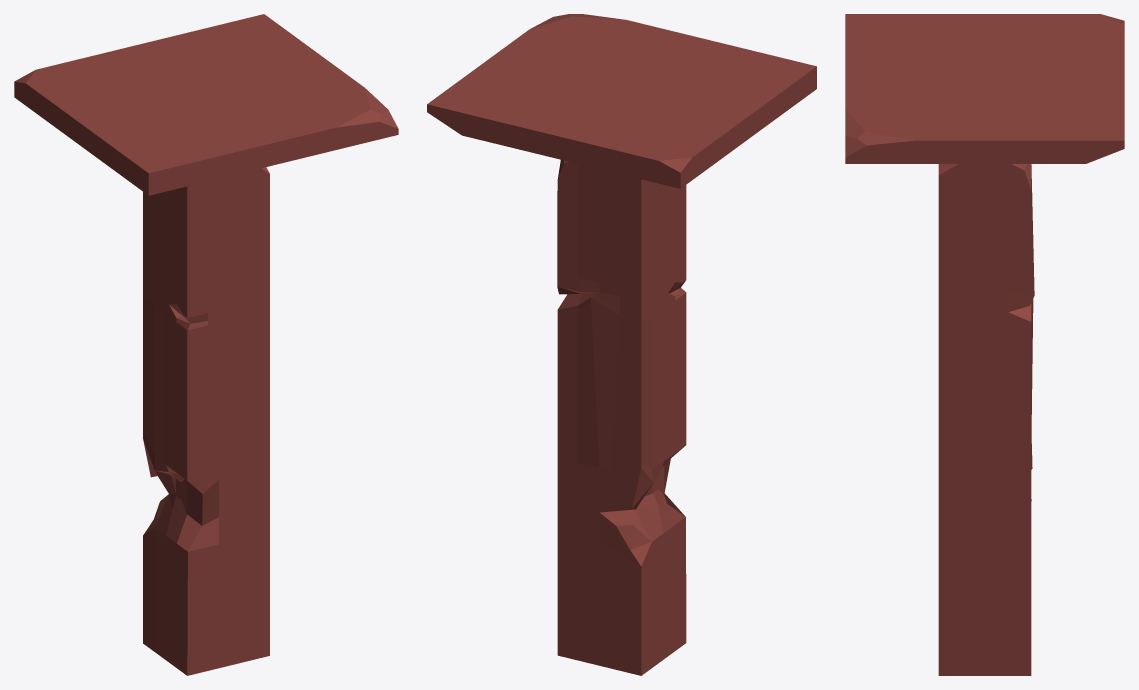
File: Pilar.fbx
The picture shows the model from 3 angles, left to right: view 1: azimuth 30°, elevation 25°; view 2: azimuth 150°, elevation 25°; view 3: azimuth 270°, elevation 25°; orthographic projection. The views are drawn at different scales.
Visible parts, largest first — view 1: Cube; view 2: Cube; view 3: Cube.
Part boxes in pixels (x1,y1,x2,y2): Cube: [14, 14, 398, 675]; Cube: [427, 14, 816, 675]; Cube: [845, 14, 1124, 675].
Size of the model in its own units: 11222 by 23854 by 10457.
